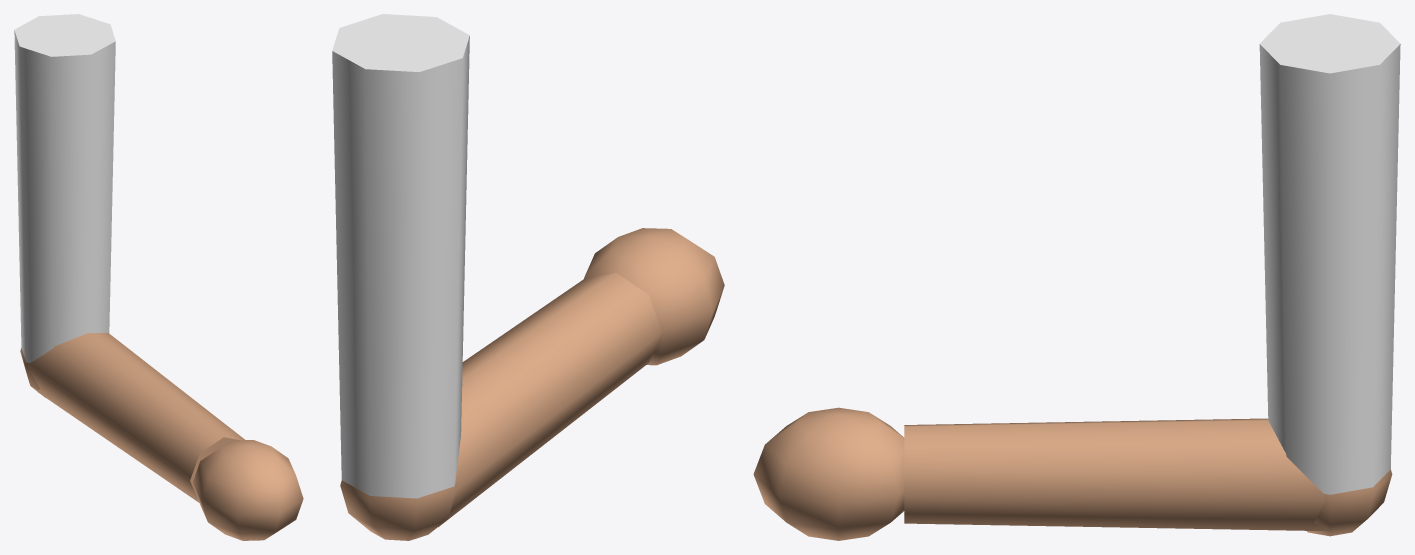
Rendered from BrazoJuez.obj.
3 views of the same model, side by side, from view 1: azimuth 30°, elevation 25°; view 2: azimuth 150°, elevation 25°; view 3: azimuth 270°, elevation 25° (orthographic). The views are drawn at different scales.
Parts seen in each view (by area): view 1: BrazoJuez; view 2: BrazoJuez; view 3: BrazoJuez.
Boxes of the visible parts, left/top/right/bottom form: BrazoJuez: left=14, top=14, right=303, bottom=540; BrazoJuez: left=332, top=14, right=724, bottom=540; BrazoJuez: left=753, top=14, right=1400, bottom=540.
Size of the model in its own units: 0.088 by 0.33 by 0.395.
Materials: 1 (1 with a texture image).
